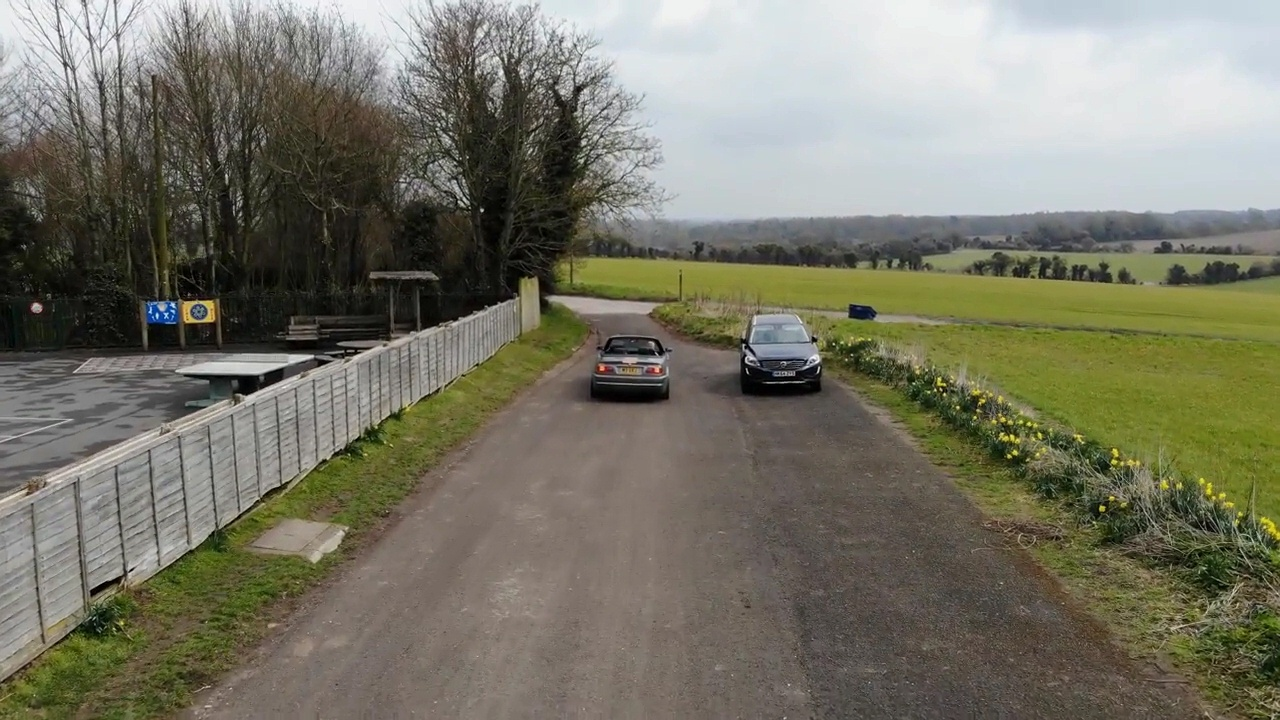araba: (741, 310, 825, 396), (587, 335, 674, 401)
